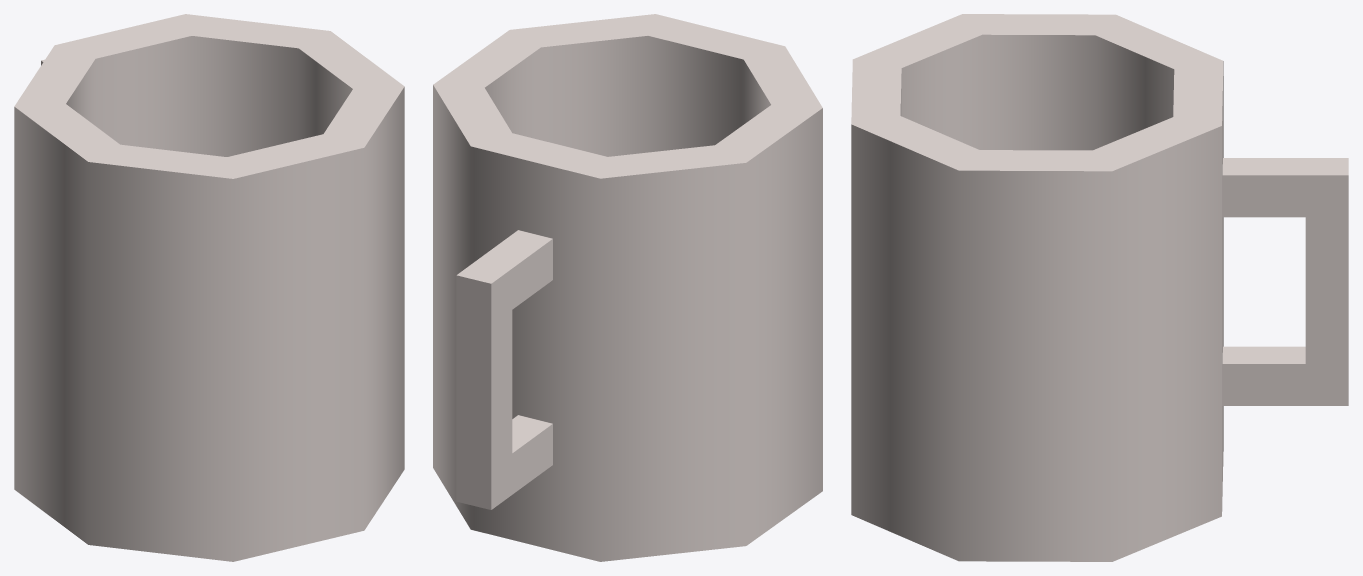
File: cup_white.fbx
3 renders of one model, left to right at view 1: azimuth 30°, elevation 25°; view 2: azimuth 150°, elevation 25°; view 3: azimuth 270°, elevation 25°, orthographic. The views are drawn at different scales.
Visible parts, largest first — view 1: Cup Small; view 2: Cup Small; view 3: Cup Small.
Part boxes in pixels (box(x1,y1,x2,y2)): Cup Small: box(14, 14, 404, 561); Cup Small: box(433, 14, 822, 561); Cup Small: box(851, 14, 1348, 561).
Bounding box in the file's own units: 17.86 × 13.36 × 15.48.
